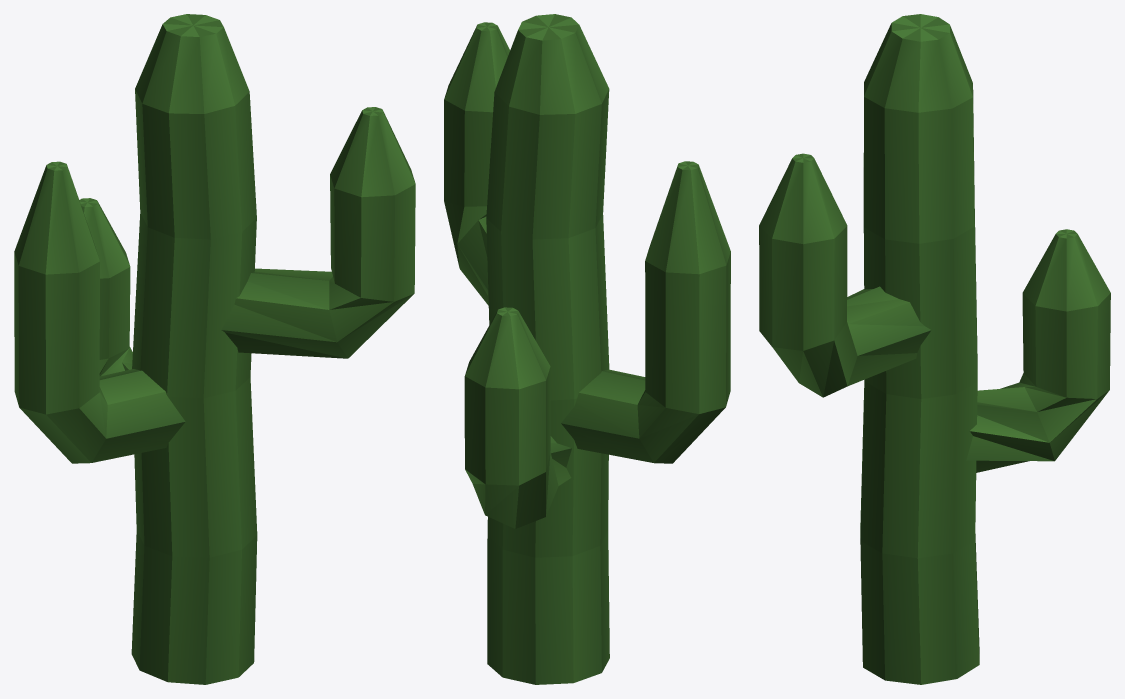
The model's file is cactus_saguaro_a.glb.
3 renders of one model, left to right at view 1: azimuth 30°, elevation 25°; view 2: azimuth 150°, elevation 25°; view 3: azimuth 270°, elevation 25°, orthographic.
Visible parts, largest first — view 1: cactus_saguaro_a_solid; view 2: cactus_saguaro_a_solid; view 3: cactus_saguaro_a_solid.
Boxes of the visible parts, left/top/right/bottom form: cactus_saguaro_a_solid: left=14, top=14, right=415, bottom=684; cactus_saguaro_a_solid: left=444, top=14, right=730, bottom=684; cactus_saguaro_a_solid: left=759, top=14, right=1110, bottom=684.
Bounding box in the file's own units: 1.88 × 3.42 × 1.72.
